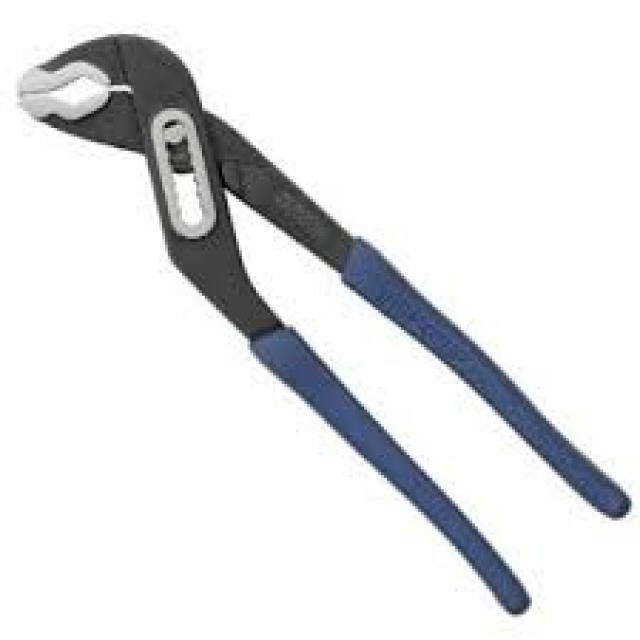pliers: (8, 23, 630, 622)
